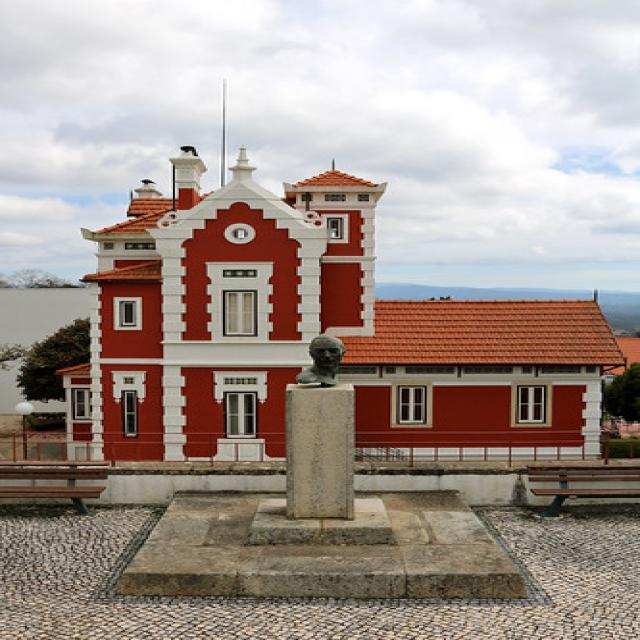building: (68, 142, 626, 480)
